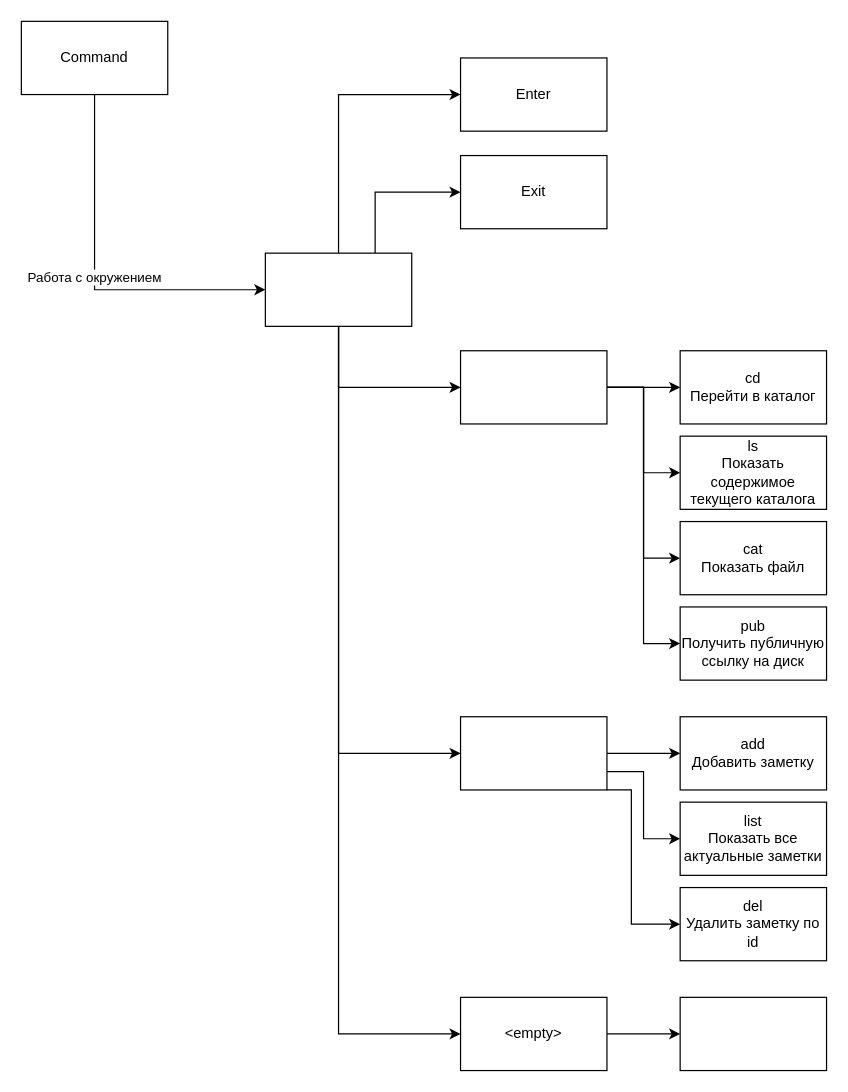
This 848x1092 diagram has some shape labels left out. The box of each missing label's shape, as (x1, y1, x2, y2) in pixels:
Environment: (264, 252, 412, 326)
help Общая информация по окружению: (679, 996, 827, 1071)
notes: (459, 716, 607, 790)
yadisk: (459, 350, 607, 424)
